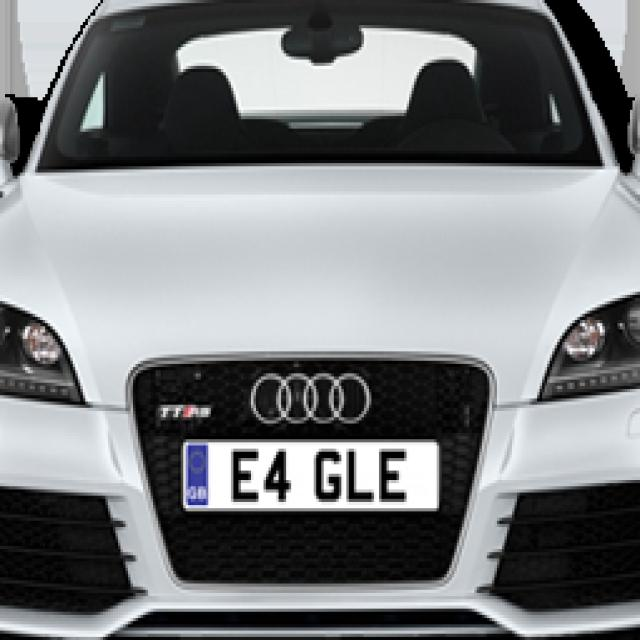license_plate: (183, 436, 442, 508)
